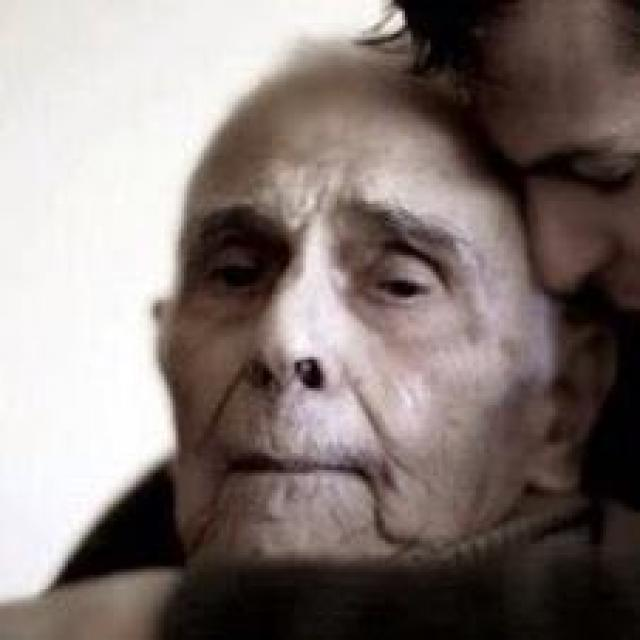Sad: (147, 116, 527, 578)
